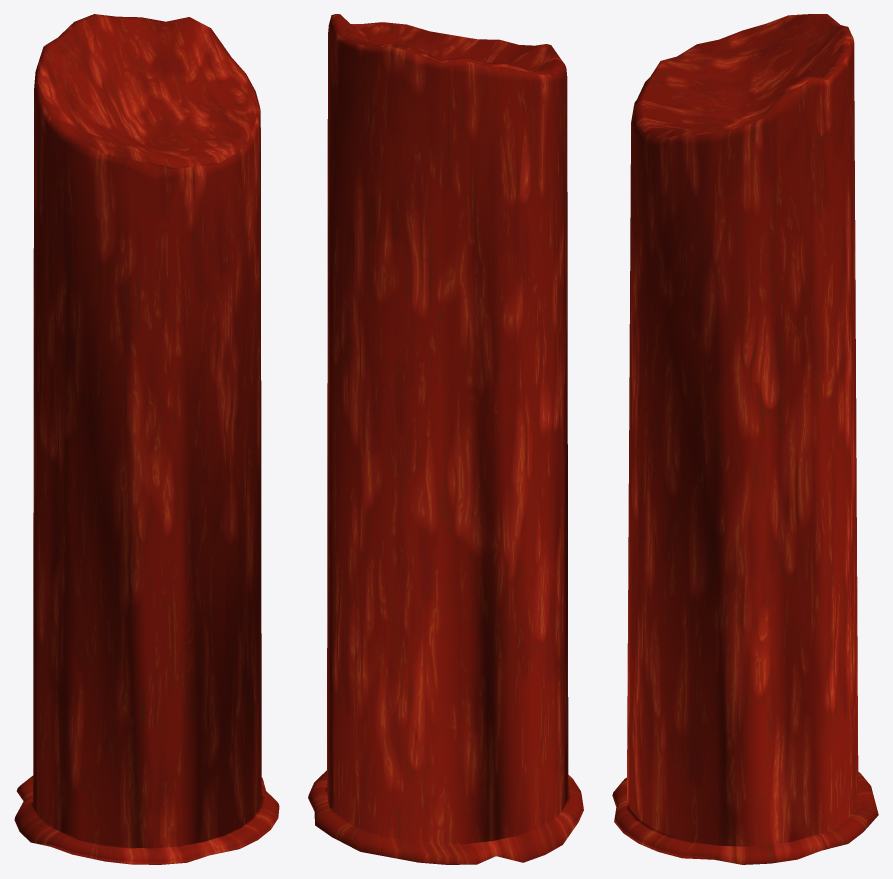
File: candle.fbx
3 views of the same model, side by side, from view 1: azimuth 30°, elevation 25°; view 2: azimuth 150°, elevation 25°; view 3: azimuth 270°, elevation 25° (orthographic). The views are drawn at different scales.
Visible parts, largest first — view 1: Candle; view 2: Candle; view 3: Candle.
Part boxes in pixels (bbox=[...]): Candle: bbox=[14, 14, 279, 864]; Candle: bbox=[308, 14, 583, 864]; Candle: bbox=[612, 14, 878, 864].
Bounding box in the file's own units: 9.94 × 31.75 × 9.82.
